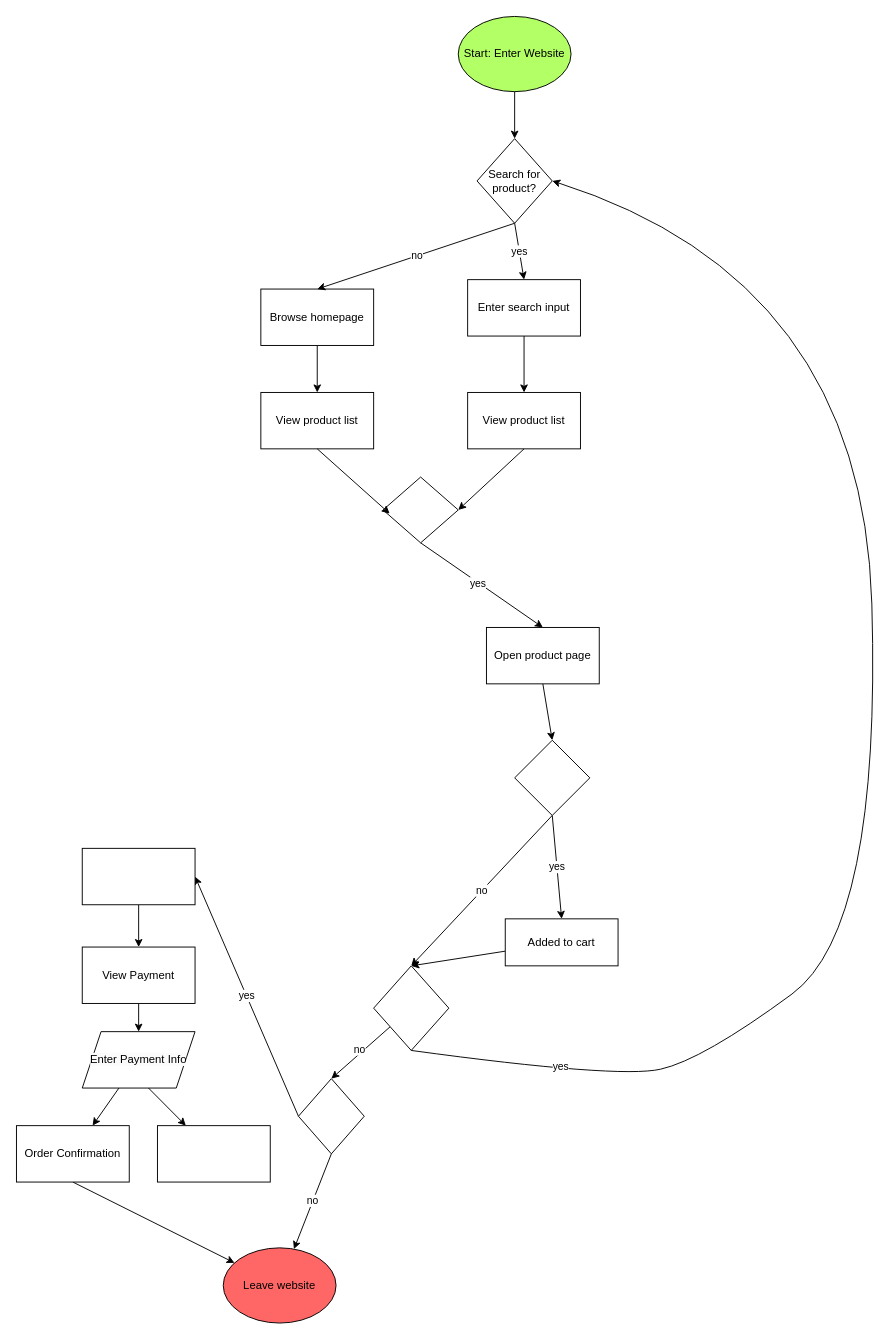
This 889x1340 diagram has some shape labels left out. The centre of each missing label's shape, as x and y in pixels:
Add to cart?: the point at 552,777
Checkout?: the point at 331,1116
Continue shopping?: the point at 411,1007
Receive Email: the point at 213,1153
View Cart: the point at 138,876
View specific product?: the point at 420,509
